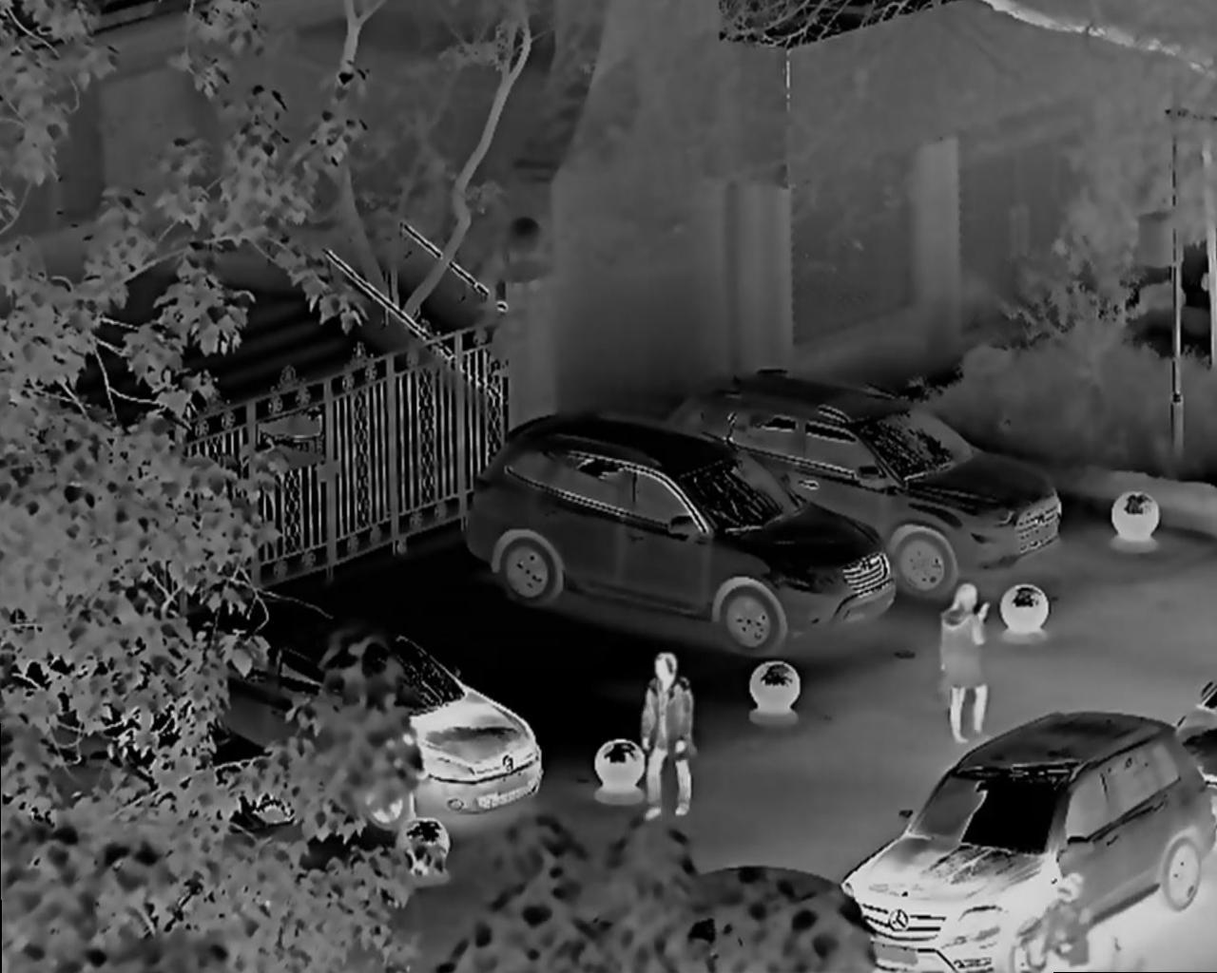person: (638, 650, 703, 825), (931, 578, 995, 752)
